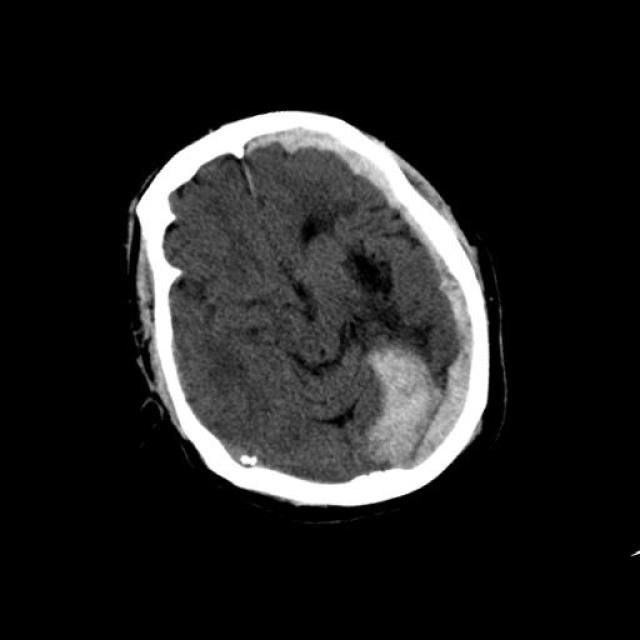Intraparenchymal: (334, 319, 464, 455)
Subdural: (234, 41, 565, 494)
